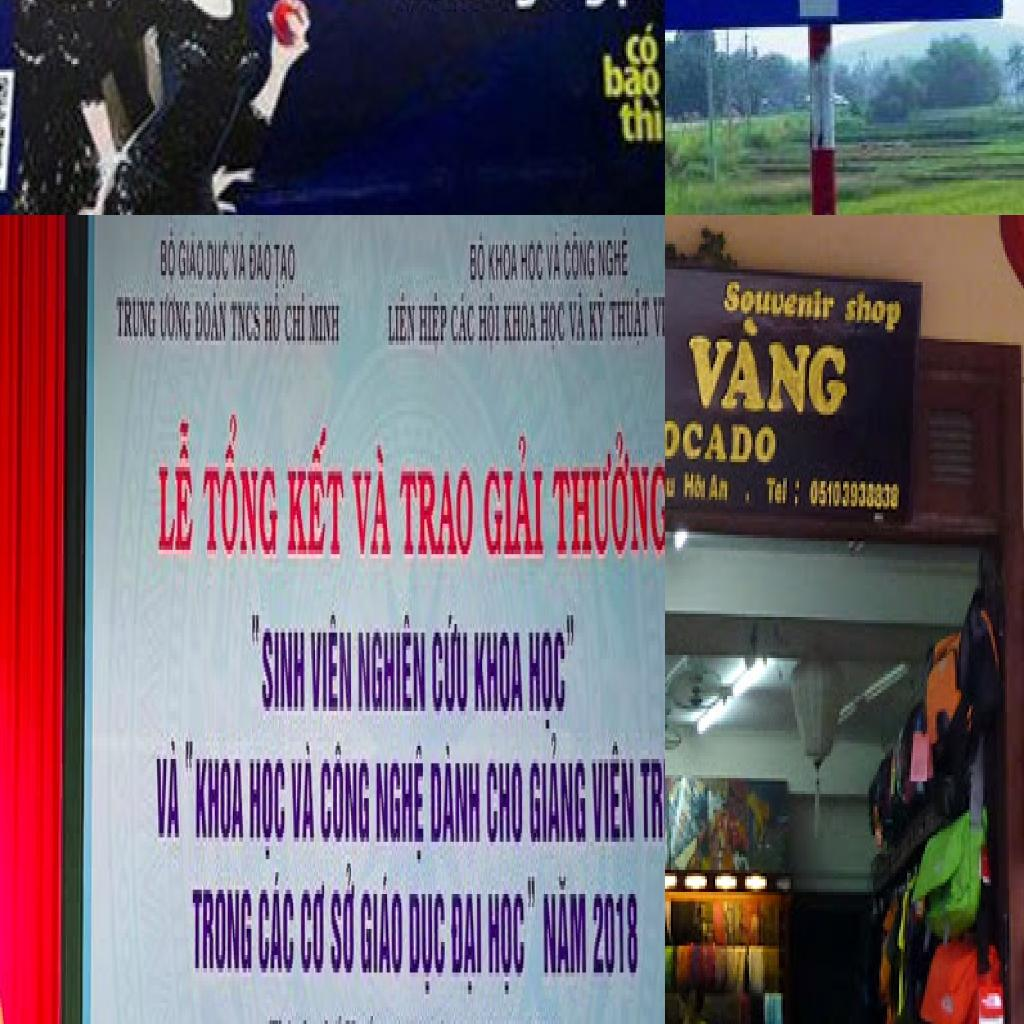text: (689, 314, 849, 421), (551, 423, 665, 567), (202, 410, 279, 568), (285, 423, 351, 563), (481, 428, 546, 563), (528, 724, 588, 851), (397, 471, 476, 563), (184, 733, 246, 846), (359, 616, 428, 716), (528, 606, 577, 742), (487, 872, 537, 999), (251, 611, 307, 724), (665, 414, 781, 468), (190, 886, 254, 982), (376, 746, 426, 868), (320, 737, 372, 851), (429, 742, 482, 850), (157, 419, 196, 563), (721, 279, 837, 326), (360, 864, 405, 981), (541, 872, 589, 981), (351, 441, 393, 558), (473, 628, 526, 720), (591, 742, 636, 850), (311, 611, 354, 720), (247, 759, 288, 868), (257, 872, 297, 981), (431, 606, 469, 720), (408, 890, 448, 998), (593, 890, 640, 981), (329, 855, 358, 981), (452, 890, 484, 1003), (809, 474, 903, 512), (486, 759, 524, 850), (638, 728, 665, 846), (609, 284, 652, 358), (841, 288, 905, 336), (156, 733, 181, 846), (290, 742, 316, 846), (301, 886, 326, 982), (596, 223, 630, 293), (419, 293, 450, 362), (158, 293, 193, 349), (195, 288, 229, 345), (387, 288, 418, 350), (117, 297, 157, 345), (564, 227, 596, 284), (620, 23, 661, 67), (538, 297, 567, 358), (478, 288, 502, 358), (504, 302, 538, 350), (179, 228, 206, 288), (248, 228, 274, 288), (230, 302, 262, 350), (488, 240, 520, 288), (450, 293, 477, 349), (519, 241, 545, 297), (286, 284, 308, 349), (308, 306, 340, 349), (468, 227, 487, 297), (207, 236, 230, 293), (264, 280, 283, 349), (273, 240, 297, 293), (568, 288, 588, 350), (589, 288, 608, 350), (161, 223, 177, 293), (232, 232, 250, 292), (765, 472, 791, 510), (546, 227, 563, 284), (653, 284, 665, 358), (683, 472, 709, 503), (707, 472, 733, 503), (665, 465, 677, 503), (344, 1011, 379, 1024)
